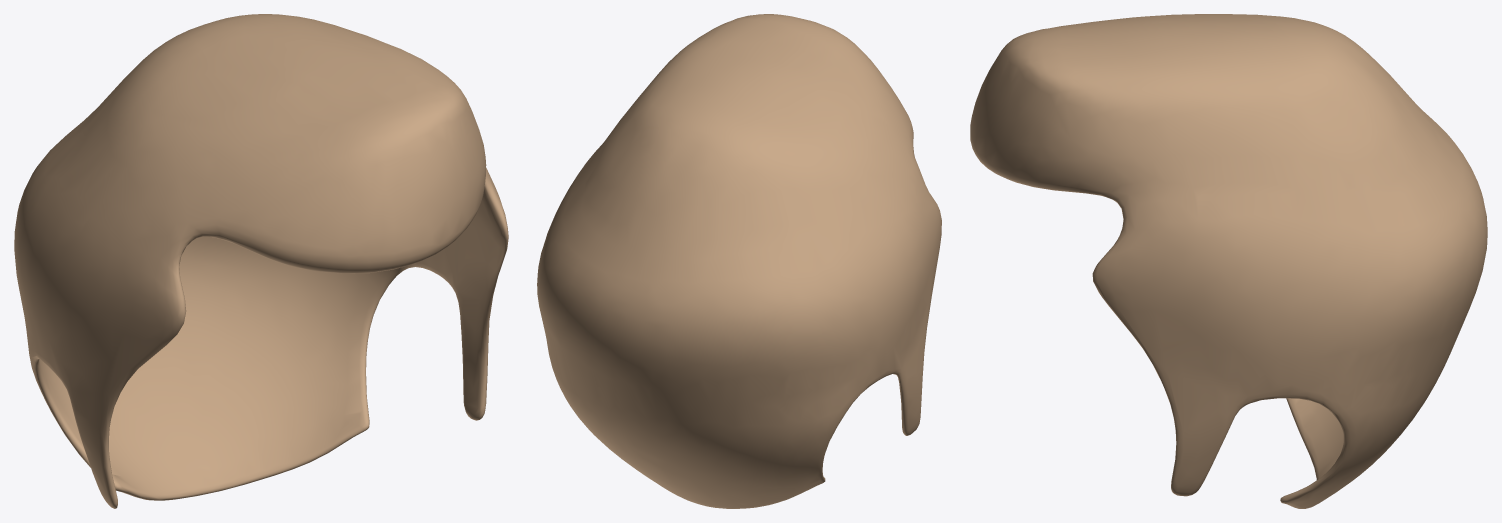
File: hair-1-36cb9e2a.glb
3 renders of one model, left to right at view 1: azimuth 30°, elevation 25°; view 2: azimuth 150°, elevation 25°; view 3: azimuth 270°, elevation 25°, orthographic. The views are drawn at different scales.
Parts seen in each view (by area): view 1: Geo_White_Old_Male_Hair_1.001; view 2: Geo_White_Old_Male_Hair_1.001; view 3: Geo_White_Old_Male_Hair_1.001.
Part boxes in pixels (bbox=[...]): Geo_White_Old_Male_Hair_1.001: bbox=[14, 14, 508, 508]; Geo_White_Old_Male_Hair_1.001: bbox=[537, 14, 941, 508]; Geo_White_Old_Male_Hair_1.001: bbox=[970, 14, 1487, 508].
Bounding box in the file's own units: 1.42 × 1.6 × 1.62.
